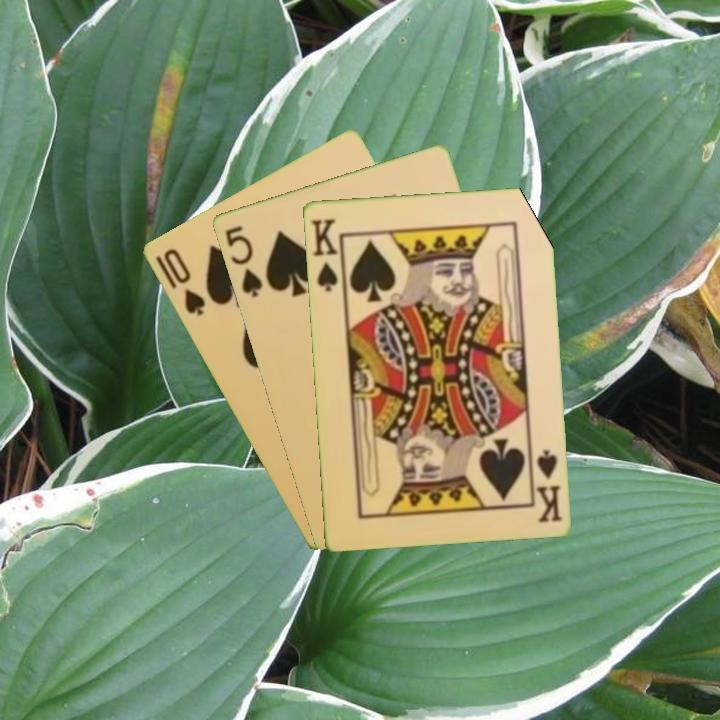10s: (159, 244, 208, 319)
5s: (221, 221, 265, 300)
Ks: (307, 215, 346, 294), (527, 444, 565, 525)
